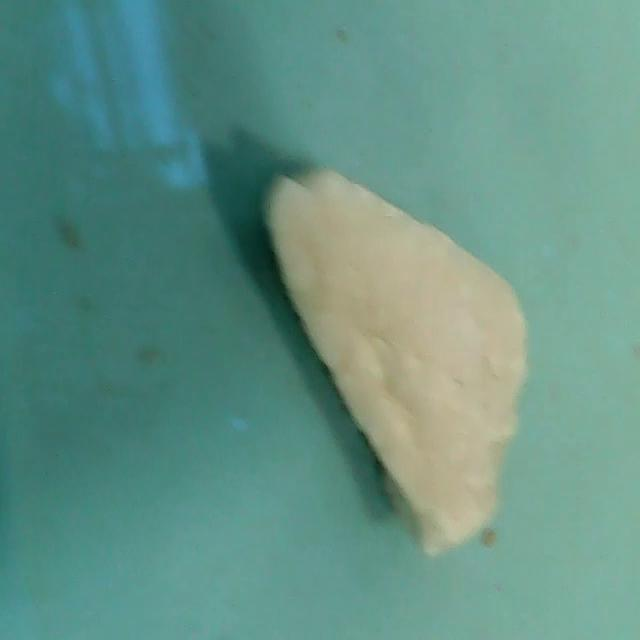rock: (253, 151, 540, 576)
